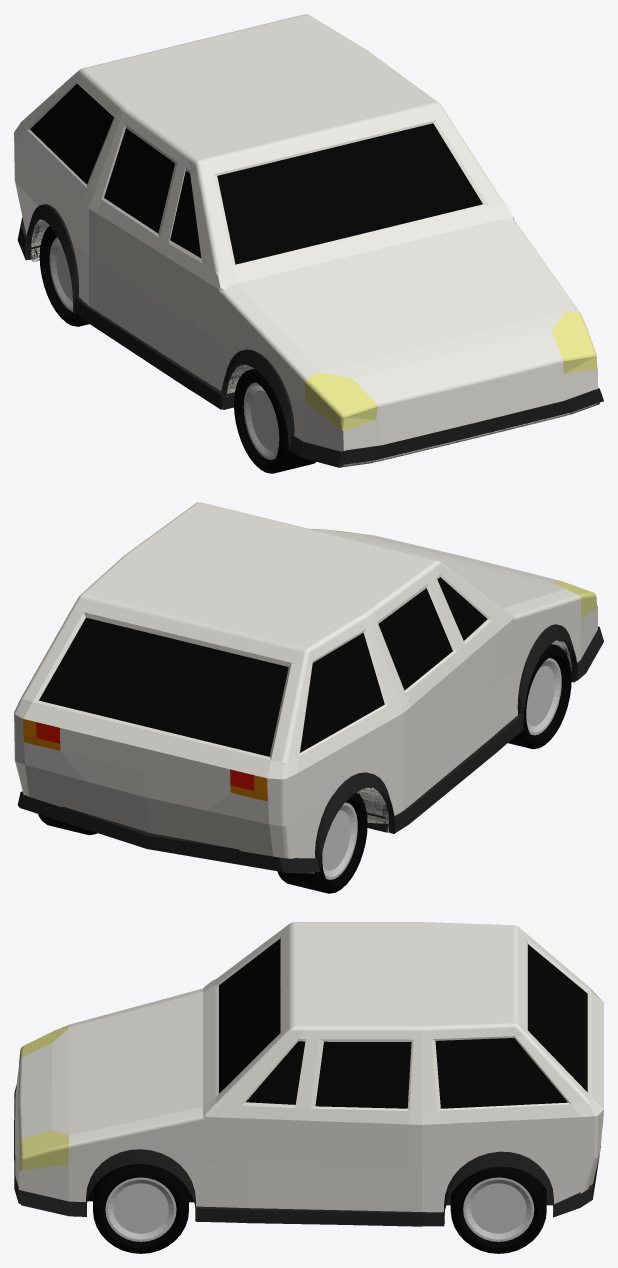
Rendered from car.glb.
3 views of the same model, one above another, from view 1: azimuth 30°, elevation 25°; view 2: azimuth 150°, elevation 25°; view 3: azimuth 270°, elevation 25° (orthographic). The views are drawn at different scales.
Parts seen in each view (by area): view 1: Кузов, Кузов.001, Колесо.002, Колесо; view 2: Кузов, Кузов.001, Колесо, Колесо.002; view 3: Кузов, Кузов.001, Колесо.003, Колесо.001.
Part boxes in pixels (x1=…): Кузов: x1=14, y1=14, x2=597, y2=466; Кузов.001: x1=17, y1=204, x2=603, y2=467; Колесо.002: x1=234, y1=368, x2=316, y2=473; Колесо: x1=39, y1=226, x2=89, y2=326; Кузов: x1=14, y1=502, x2=597, y2=873; Кузов.001: x1=17, y1=624, x2=603, y2=873; Колесо: x1=277, y1=792, x2=367, y2=893; Колесо.002: x1=508, y1=644, x2=571, y2=749; Кузов: x1=15, y1=922, x2=603, y2=1222; Кузов.001: x1=14, y1=1085, x2=600, y2=1226; Колесо.003: x1=93, y1=1163, x2=188, y2=1253; Колесо.001: x1=450, y1=1166, x2=546, y2=1253.
Size of the model in its own units: 3.42 by 2.43 by 5.97.
